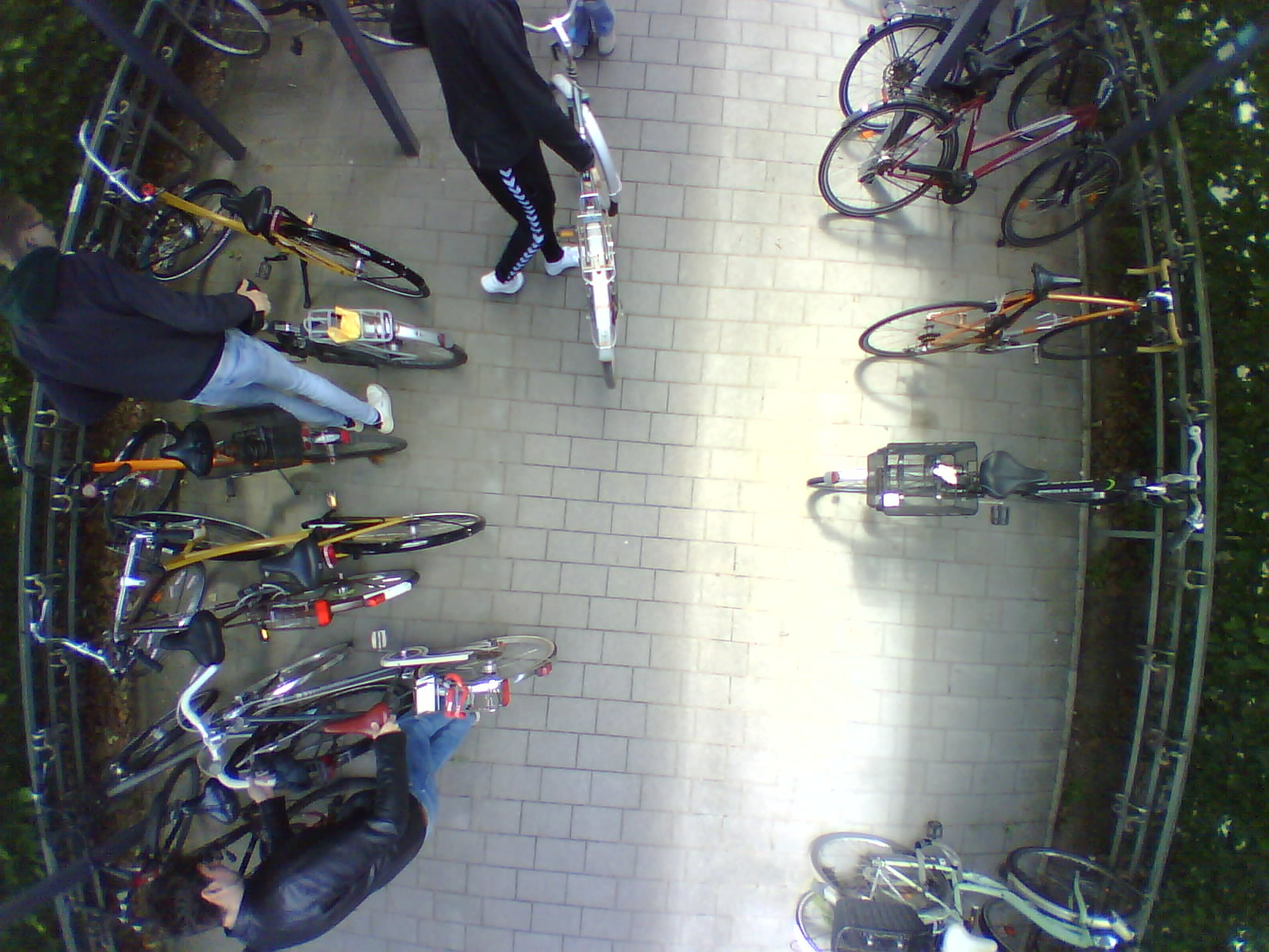bicylce: (817, 52, 1132, 247), (117, 148, 433, 301), (806, 819, 1150, 951), (170, 629, 559, 744), (78, 566, 418, 680), (836, 0, 1120, 135), (802, 435, 1193, 530), (134, 508, 485, 605), (856, 260, 1188, 361), (532, 23, 624, 386), (80, 414, 408, 515), (107, 644, 355, 777)
saddle: (982, 445, 1052, 504), (154, 610, 223, 668), (167, 776, 238, 828), (256, 539, 322, 594), (318, 701, 395, 744), (214, 184, 276, 236), (158, 428, 217, 478), (1028, 263, 1086, 303), (963, 54, 1015, 91), (940, 920, 998, 952)
